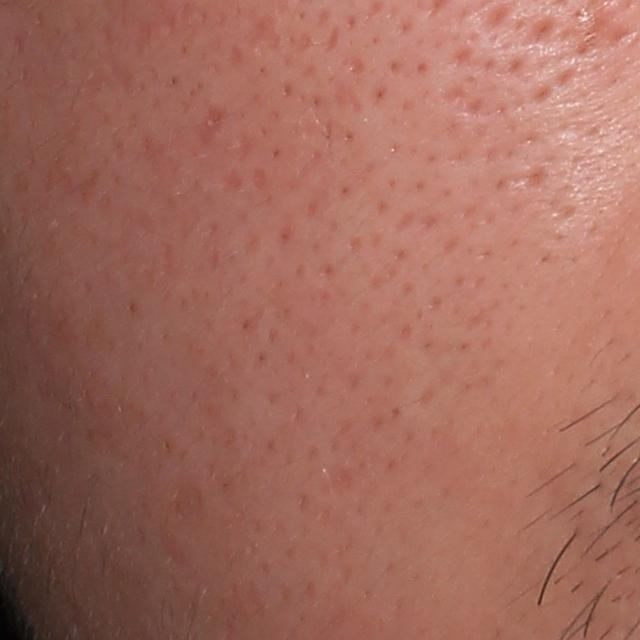atrophic_scar: (238, 5, 285, 65), (493, 161, 546, 201), (194, 99, 232, 149)
